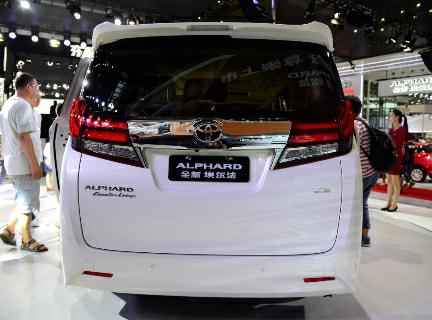丰田-埃尔法: (54, 13, 371, 306)
